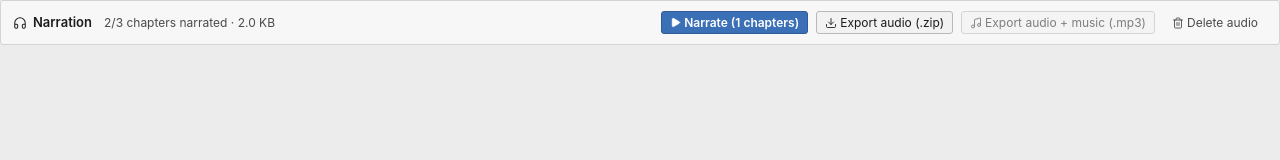
NarrationPanel export › downloads the zip without music and reports counts
Click the button "Export audio (.zip)".
click(885, 23)  # box 816,11 -> 953,34
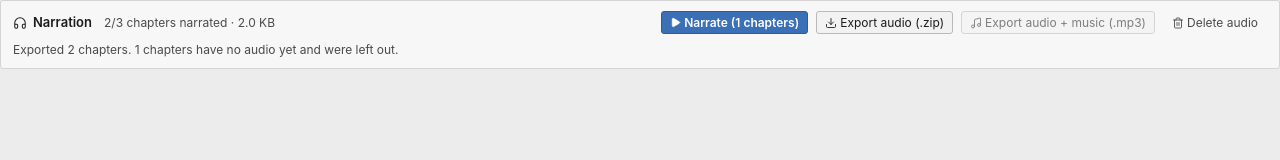
Now the text "Exported 2 chapters. 1 chapters have no audio yet and were left out." is shown, box 13,42 -> 398,57
